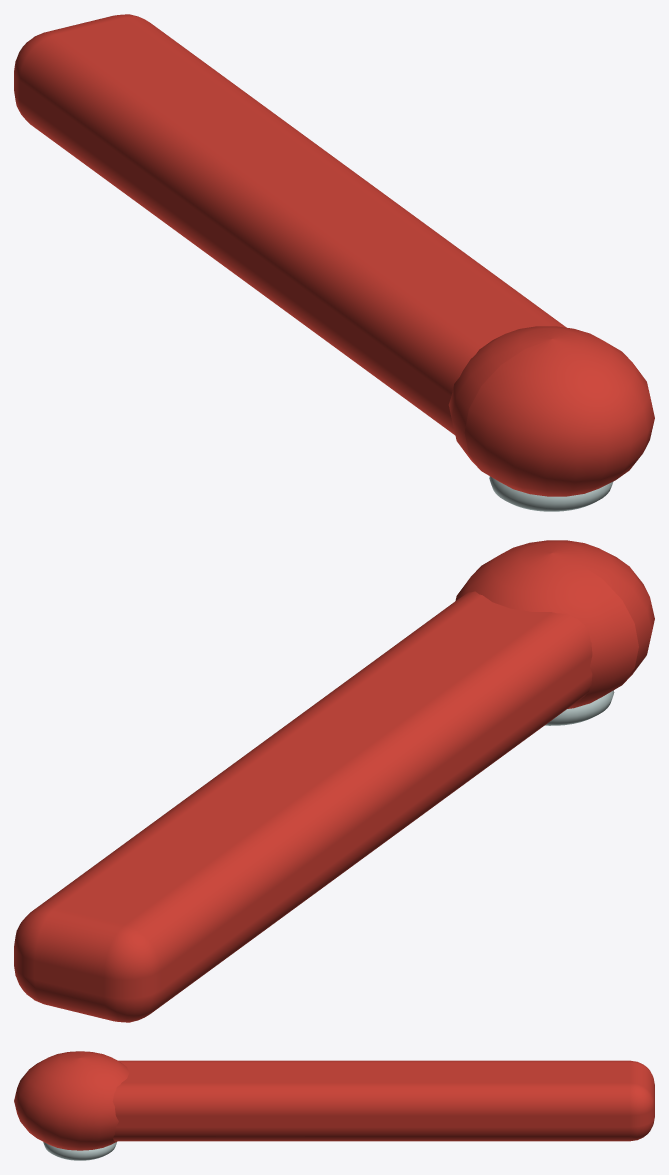
The model's file is mixer-arm.glb.
3 views of the same model, one above another, from view 1: azimuth 30°, elevation 25°; view 2: azimuth 150°, elevation 25°; view 3: azimuth 270°, elevation 25° (orthographic). The views are drawn at different scales.
Parts seen in each view (by area): view 1: red, steel; view 2: red, steel; view 3: red, steel.
Part boxes in pixels (x1,y1,x2,y2): red: [14, 14, 654, 496]; steel: [489, 476, 613, 511]; red: [14, 540, 654, 1022]; steel: [545, 690, 614, 725]; red: [14, 1051, 654, 1150]; steel: [43, 1142, 116, 1160].
Size of the model in its own units: 0.58 by 0.478 by 3.1.
